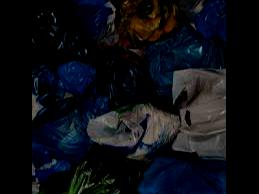Plastic: (32, 89, 116, 160), (144, 28, 226, 98), (90, 99, 186, 158), (32, 0, 104, 65), (172, 69, 224, 156), (96, 48, 165, 111), (65, 138, 142, 193), (131, 149, 226, 193), (113, 0, 182, 49), (53, 0, 114, 34), (52, 56, 102, 96), (32, 168, 91, 193), (149, 0, 223, 18)
